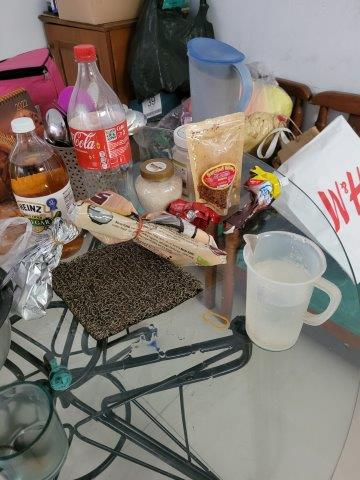botolplastik: (72, 46, 137, 215), (10, 119, 82, 252)
karet: (204, 311, 230, 332)
